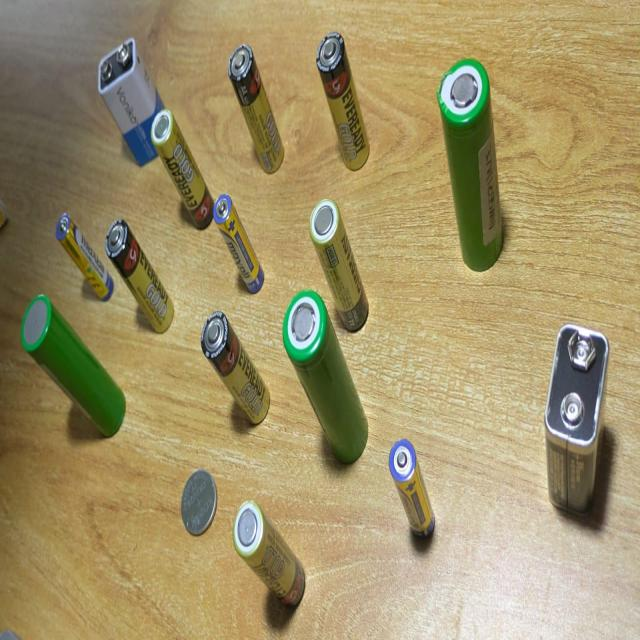9V: (542, 317, 617, 534), (97, 30, 173, 168)
AA: (231, 490, 317, 626), (195, 298, 274, 437), (309, 189, 379, 340), (101, 214, 181, 345), (149, 103, 216, 239), (229, 41, 290, 184), (315, 27, 373, 175)
AAA: (213, 182, 267, 306), (56, 200, 116, 309), (388, 429, 428, 507)
COIN: (177, 462, 223, 544)
